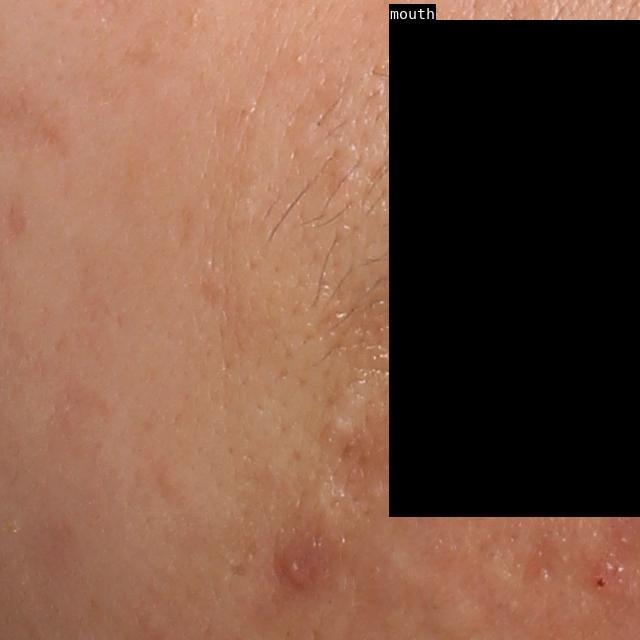hypertrophic_scar: (314, 479, 349, 529), (328, 406, 355, 440)
papule: (579, 558, 627, 603), (276, 551, 319, 590)
